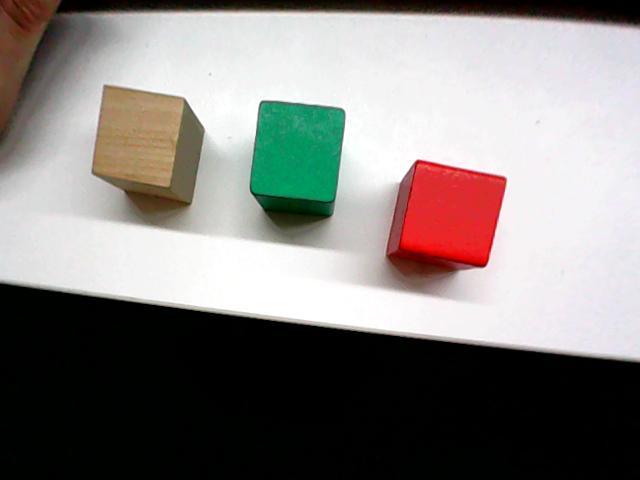green_box: (246, 95, 347, 220)
raw_box: (88, 80, 207, 207)
red_box: (383, 154, 510, 274)
